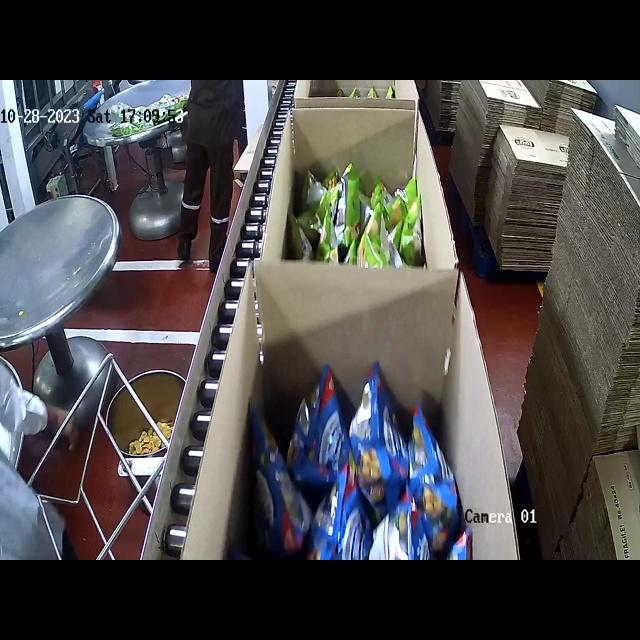paprika: (260, 358, 487, 560)
yogurt: (288, 158, 437, 281)
